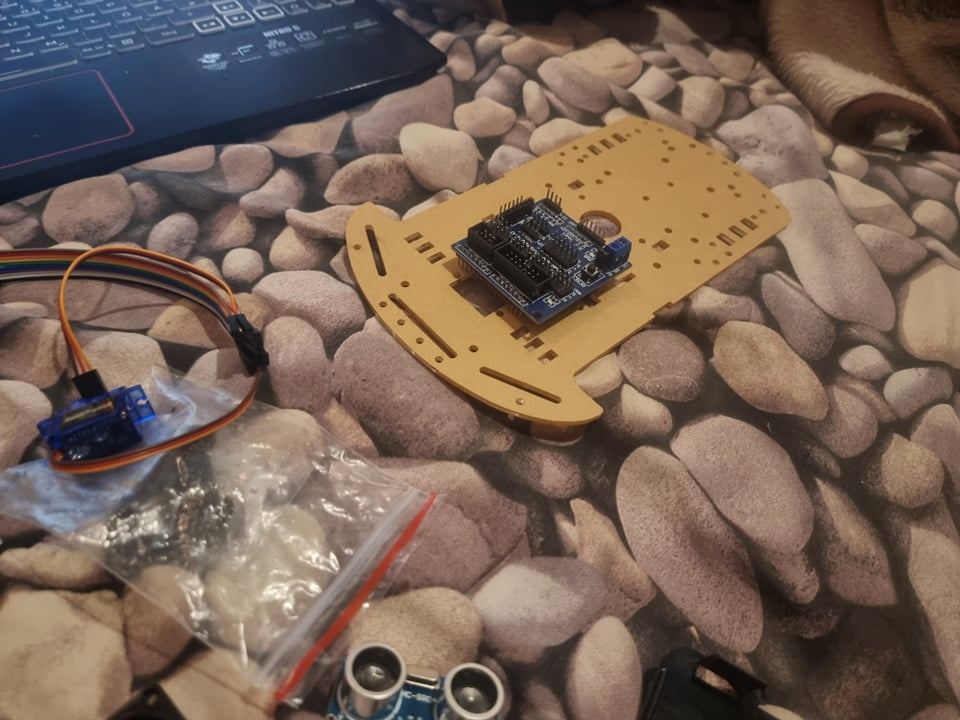5V EXPANSION: (451, 190, 631, 328)
SENSOR: (321, 644, 510, 720)
